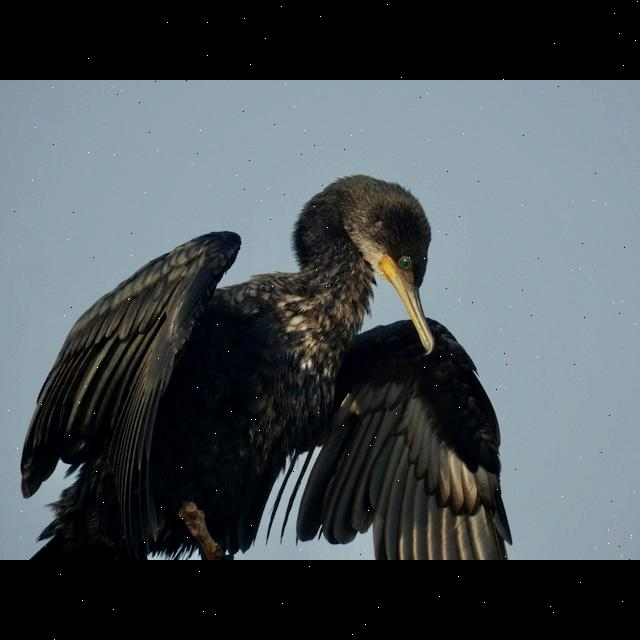cormorant: (18, 164, 518, 560)
